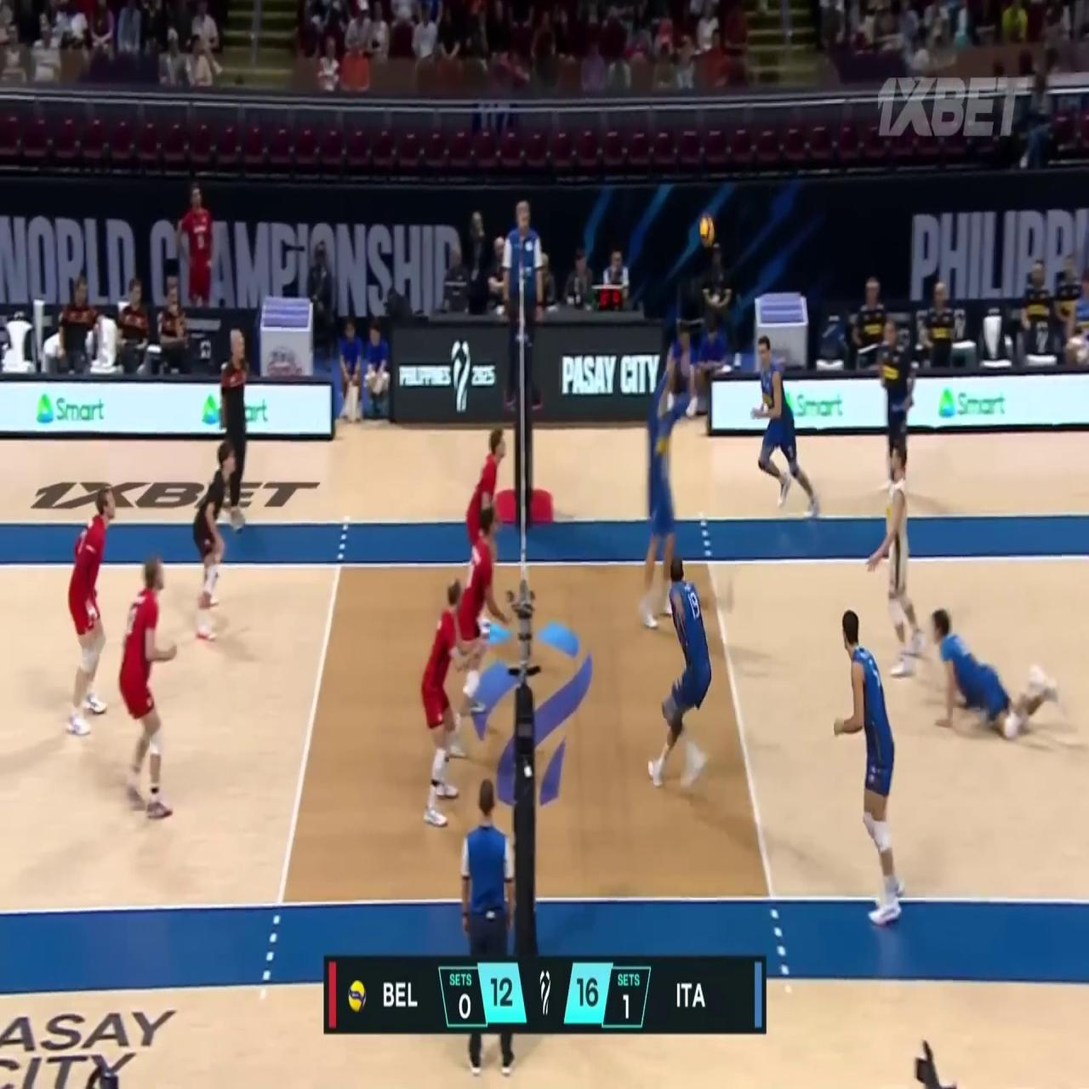ball: (698, 215, 715, 246)
